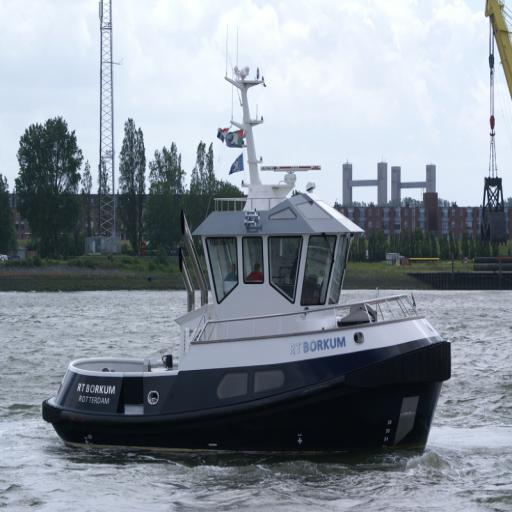tugboat: (39, 60, 455, 468)
